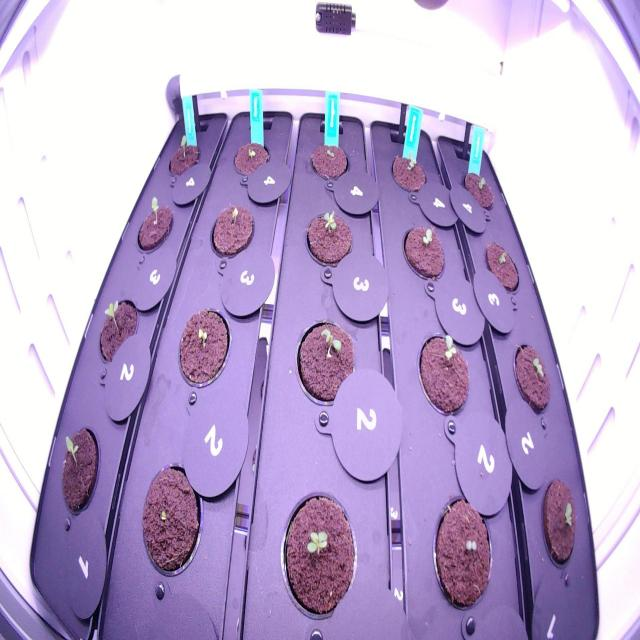germination: (272, 484, 361, 626), (428, 491, 496, 615), (288, 306, 362, 418), (173, 300, 236, 398), (414, 326, 474, 425), (55, 416, 104, 526), (536, 467, 582, 575), (94, 289, 146, 374), (508, 334, 556, 420), (397, 215, 450, 289), (302, 202, 357, 273), (132, 186, 179, 265), (206, 197, 258, 268), (479, 232, 523, 303), (226, 130, 275, 184), (305, 136, 354, 188), (163, 128, 206, 186), (457, 163, 498, 217), (387, 150, 431, 200)
pod: (136, 454, 208, 590)
